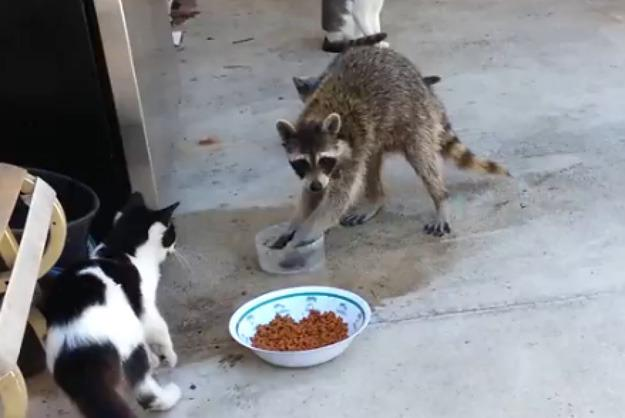raccoon: (263, 42, 519, 267)
